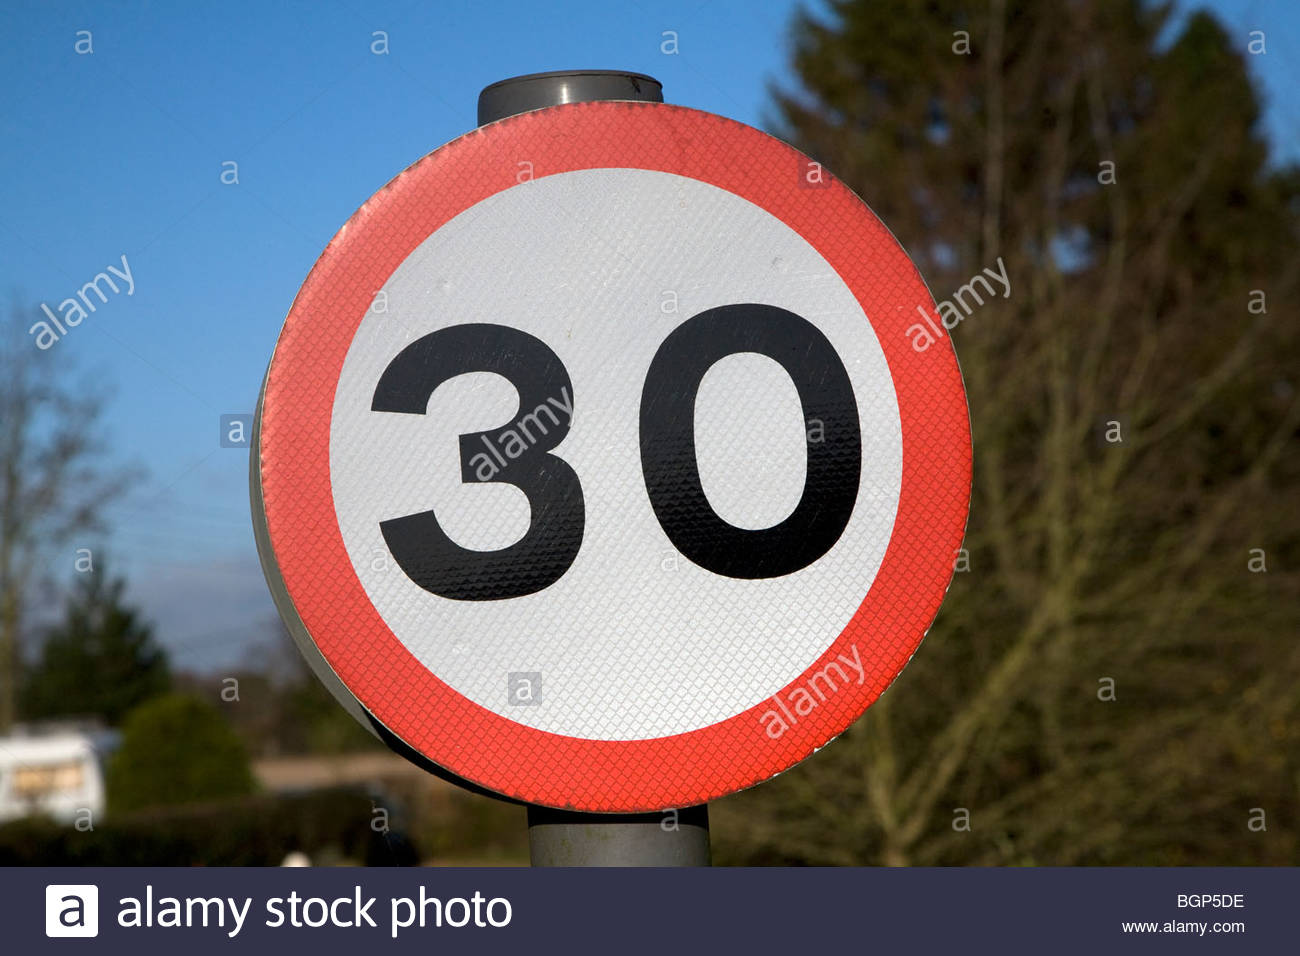Speed_limit_30km: (261, 106, 975, 784)
